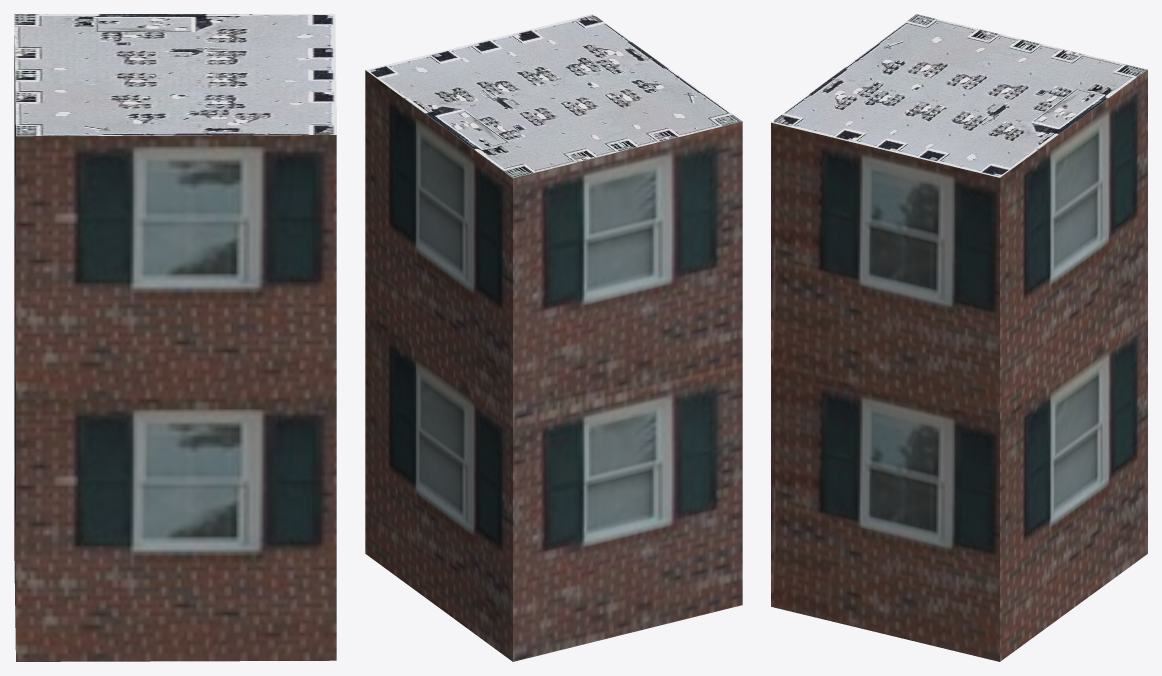
File: ResTex__4042.fbx
3 views of the same model, side by side, from view 1: azimuth 30°, elevation 25°; view 2: azimuth 150°, elevation 25°; view 3: azimuth 270°, elevation 25° (orthographic). The views are drawn at different scales.
Parts seen in each view (by area): view 1: CityEngineMaterial_14_m, CityEngineMaterial_4_m; view 2: CityEngineMaterial_14_m, CityEngineMaterial_4_m; view 3: CityEngineMaterial_14_m, CityEngineMaterial_4_m.
Boxes of the visible parts, x1,y1,x2,y2 form: CityEngineMaterial_14_m: (14, 35, 336, 661); CityEngineMaterial_4_m: (14, 14, 336, 136); CityEngineMaterial_14_m: (365, 70, 742, 661); CityEngineMaterial_4_m: (366, 14, 741, 178); CityEngineMaterial_14_m: (771, 70, 1147, 661); CityEngineMaterial_4_m: (771, 14, 1147, 177).
Bounding box in the file's own units: 4.36 × 6 × 4.23.
2 materials, 2 textured.
